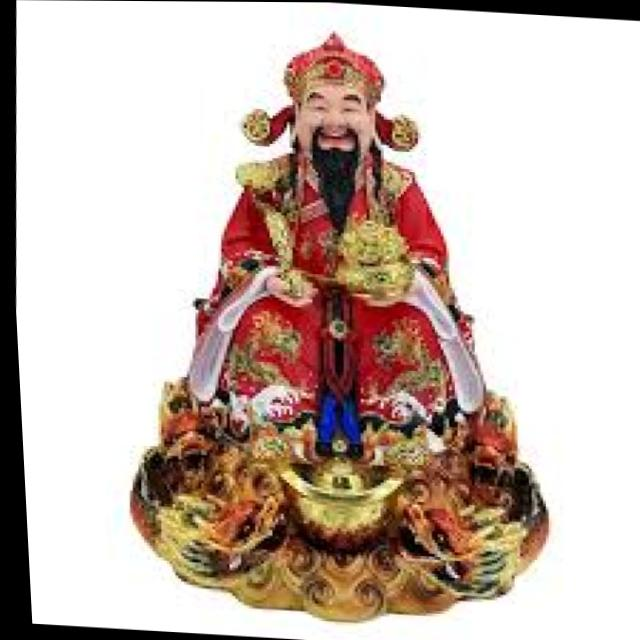Cai shen: (174, 20, 499, 456)
